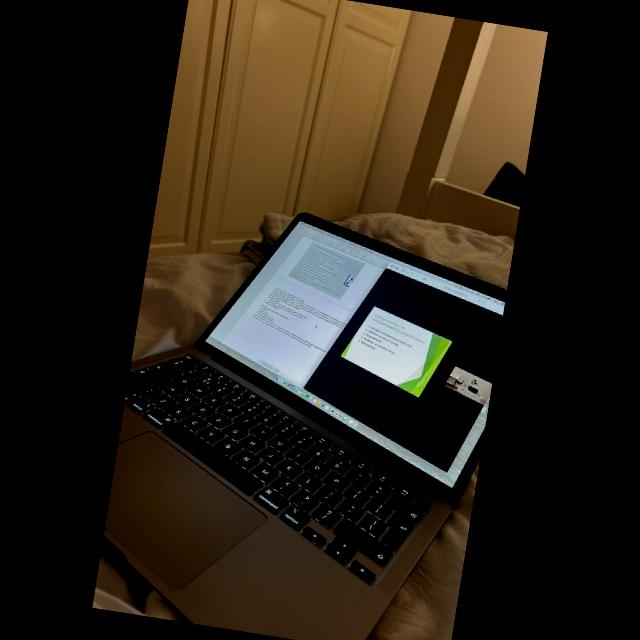laptop: (103, 213, 506, 640)
